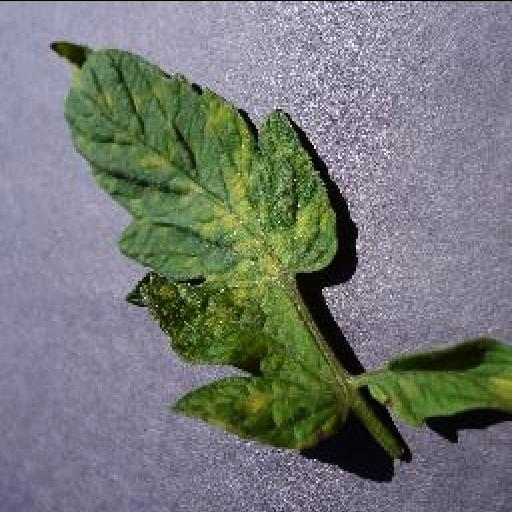disease_tomato: (50, 40, 344, 441)
